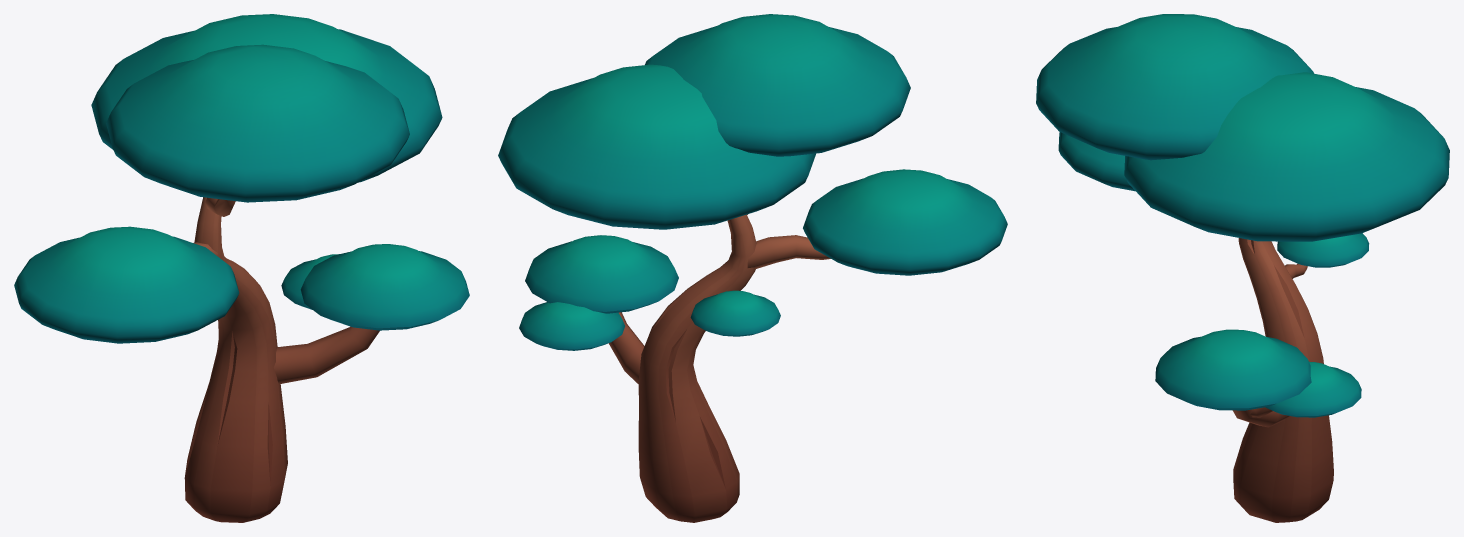
File: Tree_3_C_Color4.fbx
3 renders of one model, left to right at view 1: azimuth 30°, elevation 25°; view 2: azimuth 150°, elevation 25°; view 3: azimuth 270°, elevation 25°, orthographic. The views are drawn at different scales.
Visible parts, largest first — view 1: Tree_3_C_Color4; view 2: Tree_3_C_Color4; view 3: Tree_3_C_Color4.
Boxes of the visible parts, x1,y1,x2,y2 form: Tree_3_C_Color4: (14,14,469,522); Tree_3_C_Color4: (498,14,1007,522); Tree_3_C_Color4: (1036,14,1449,522).
Size of the model in its own units: 5.63 by 5.79 by 4.62.
